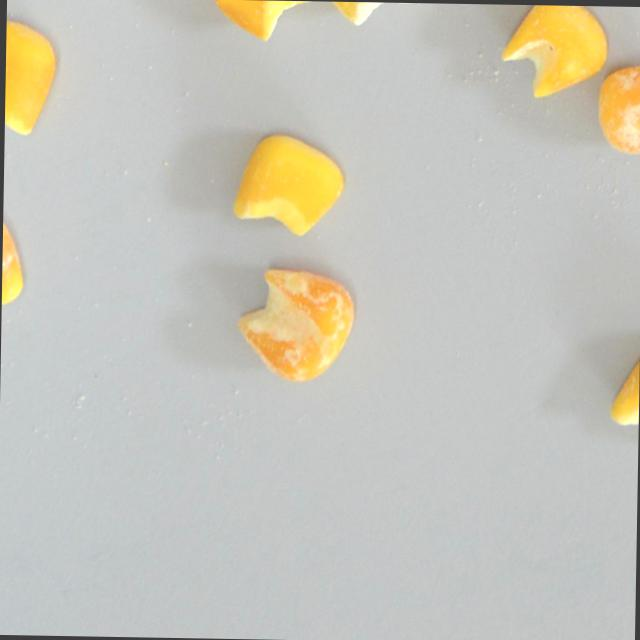dañado: (233, 261, 358, 389), (592, 59, 640, 160), (207, 0, 319, 42)
no_canjicado: (226, 126, 345, 239), (3, 13, 61, 140)
pelicula: (604, 329, 640, 454), (0, 206, 28, 321), (316, 0, 422, 27)
punto_negro: (493, 3, 610, 101)
